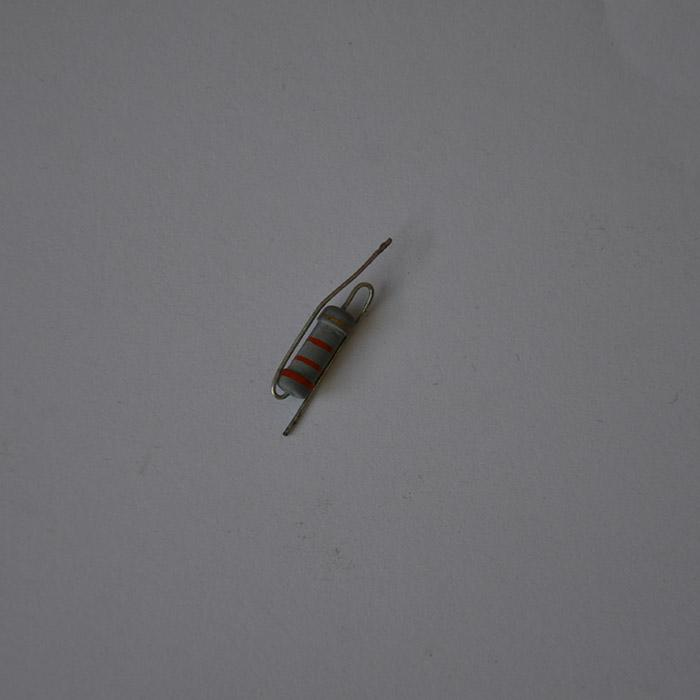resistor: (277, 304, 357, 400)
